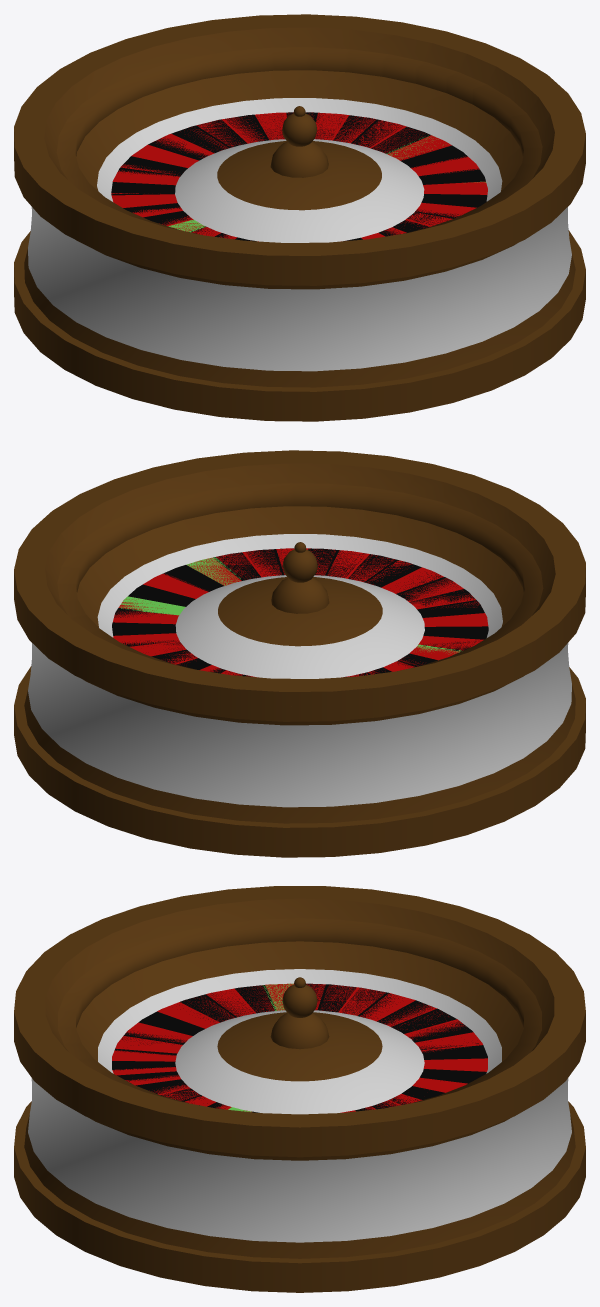
The model's file is roulette wheel.fbx.
3 views of the same model, one above another, from view 1: azimuth 30°, elevation 25°; view 2: azimuth 150°, elevation 25°; view 3: azimuth 270°, elevation 25° (orthographic).
Parts seen in each view (by area): view 1: body, wheel_38, wheel_37; view 2: body, wheel_38, wheel_37; view 3: body, wheel_37, wheel_38.
Part boxes in pixels (box(x1,y1,x2,y2)): body: box(14, 14, 585, 421); wheel_38: box(111, 112, 487, 241); wheel_37: box(111, 112, 486, 241); body: box(14, 450, 585, 857); wheel_38: box(112, 548, 488, 677); wheel_37: box(114, 548, 480, 677); body: box(14, 886, 585, 1292); wheel_37: box(112, 983, 487, 1112); wheel_38: box(112, 983, 480, 1112).
Size of the model in its own units: 284 by 106 by 284.
